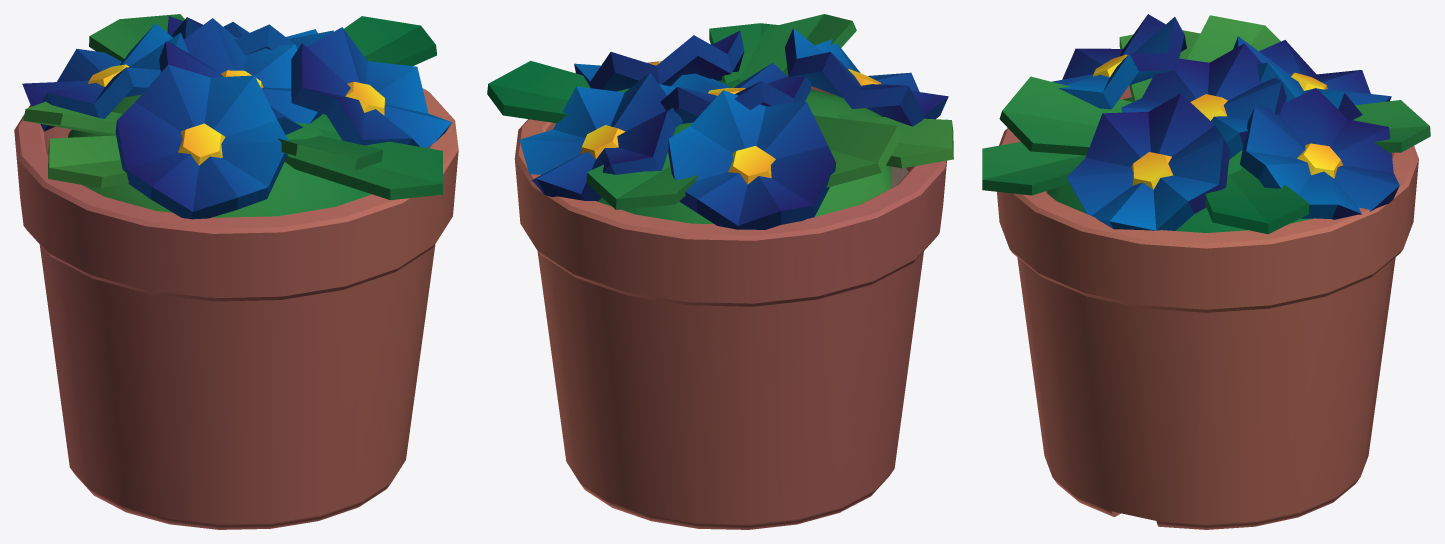
Rendered from FlowerPotBlue.fbx.
3 renders of one model, left to right at view 1: azimuth 30°, elevation 25°; view 2: azimuth 150°, elevation 25°; view 3: azimuth 270°, elevation 25°, orthographic. The views are drawn at different scales.
Parts seen in each view (by area): view 1: FlowerPotBlue; view 2: FlowerPotBlue; view 3: FlowerPotBlue.
Boxes of the visible parts, x1=… form: FlowerPotBlue: x1=14, y1=14, x2=458, y2=529; FlowerPotBlue: x1=487, y1=14, x2=953, y2=529; FlowerPotBlue: x1=982, y1=14, x2=1430, y2=529.
Bounding box in the file's own units: 0.5907 × 0.5683 × 0.5664.
